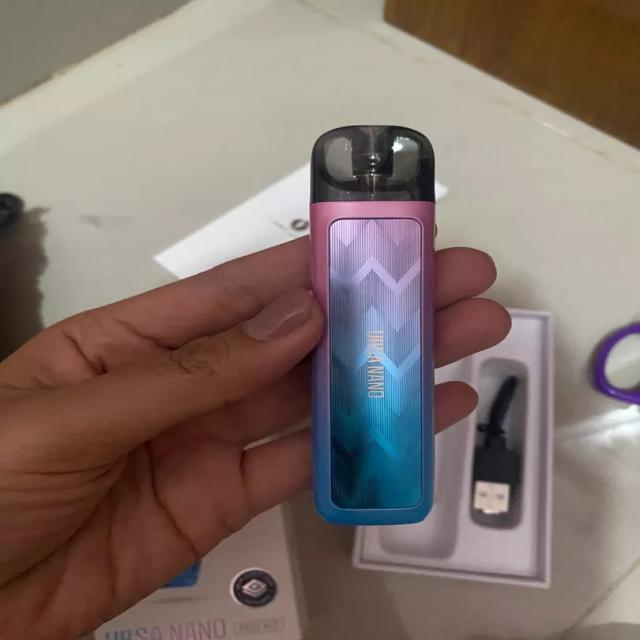Hazard: (308, 123, 437, 522)
